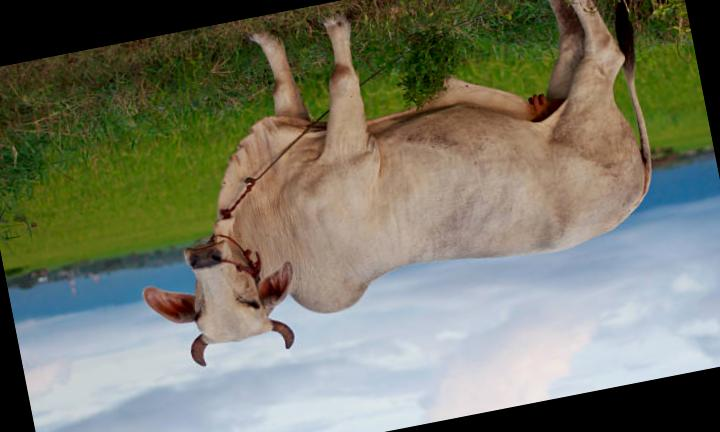Brahman: (143, 0, 650, 365)
